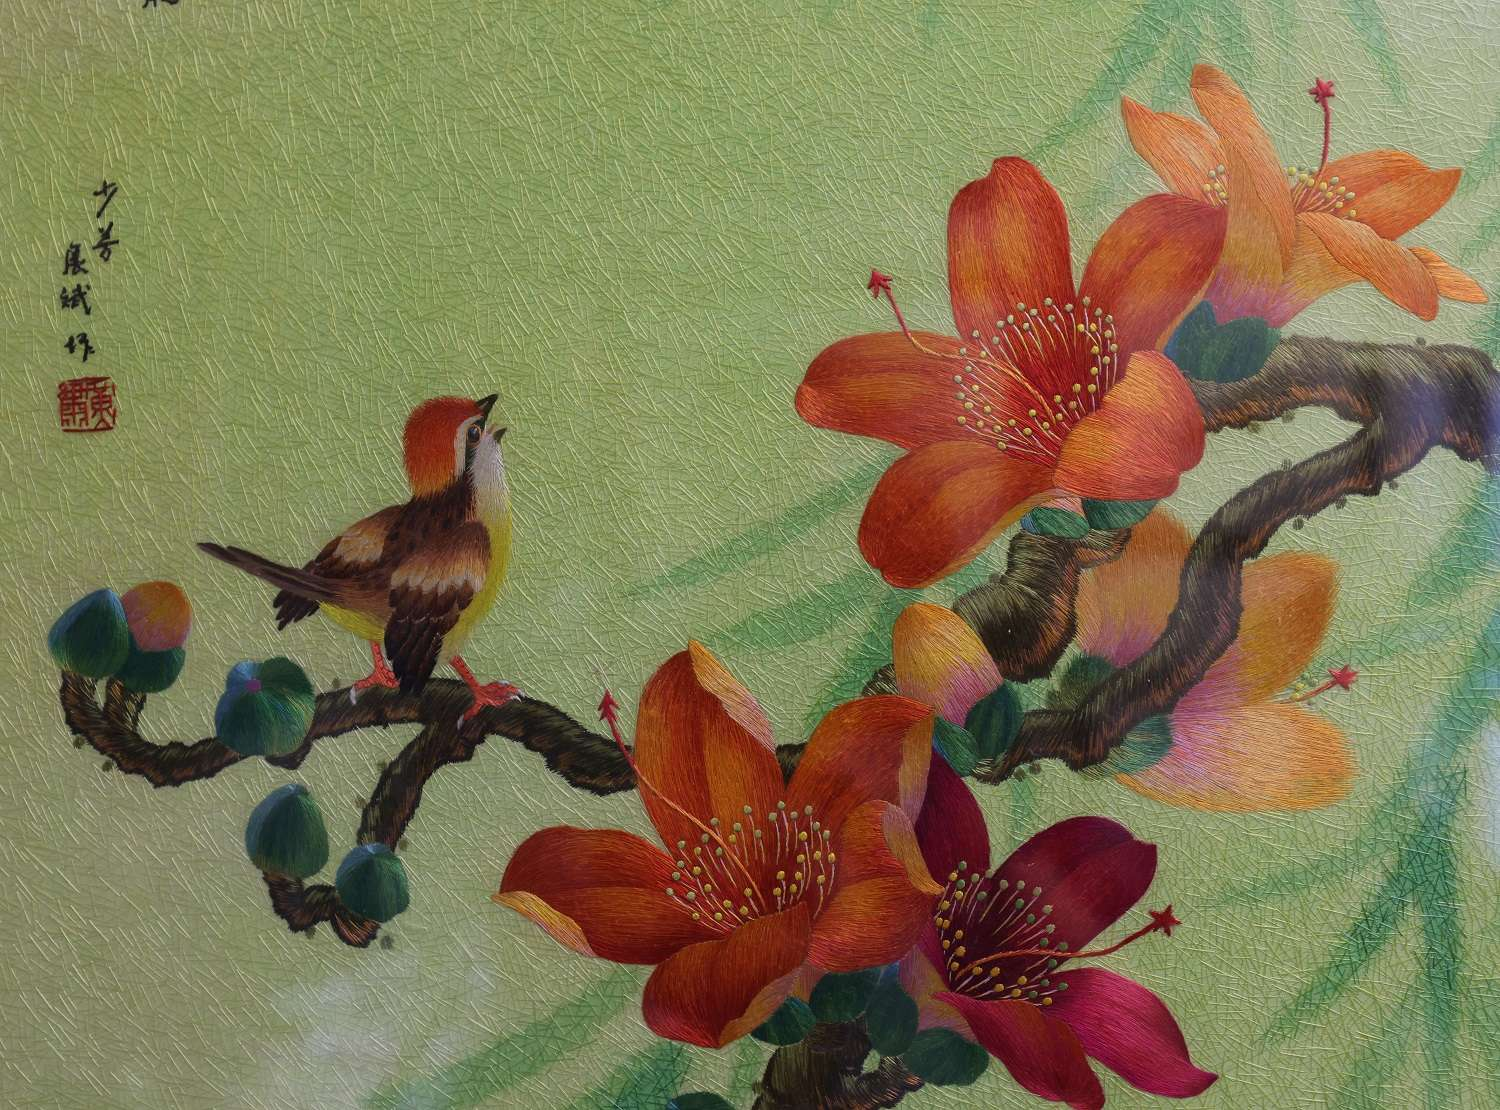bird: (190, 393, 526, 744)
kapok: (493, 641, 973, 1051), (791, 155, 1232, 591), (869, 746, 1219, 1107), (1117, 63, 1491, 378), (1049, 506, 1352, 810)
